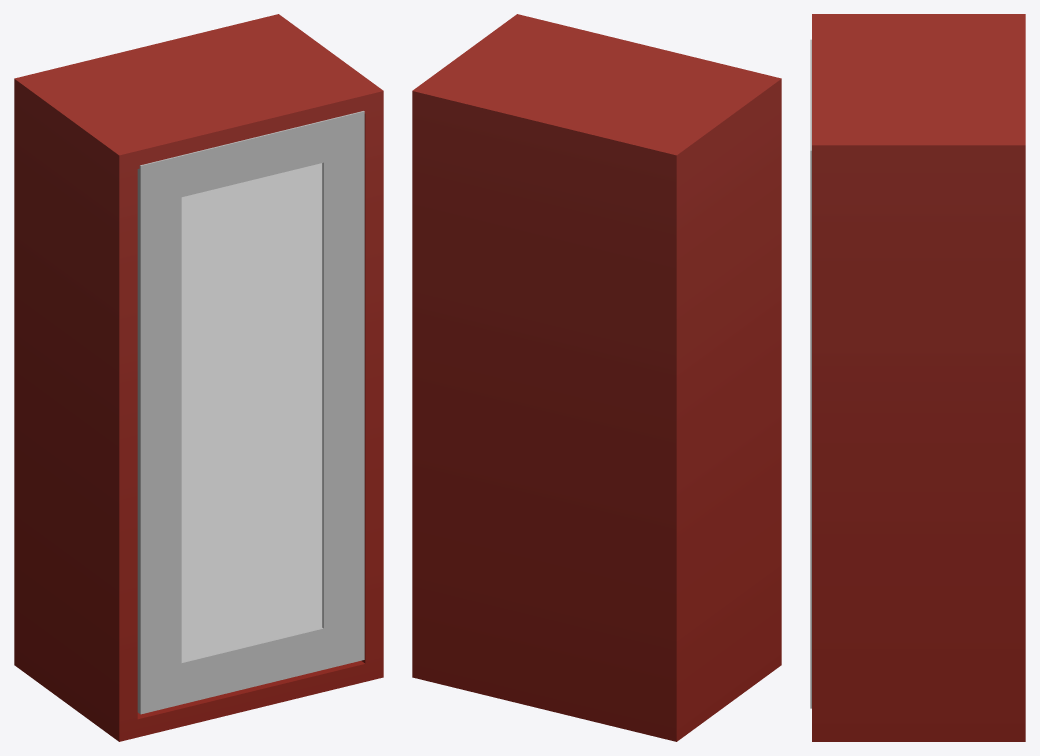
Rendered from Extinguisher.fbx.
3 renders of one model, left to right at view 1: azimuth 30°, elevation 25°; view 2: azimuth 150°, elevation 25°; view 3: azimuth 270°, elevation 25°, orthographic.
Visible parts, largest first — view 1: FireExtinguisher_02_2, FireExtinguisher_02; view 2: FireExtinguisher_02; view 3: FireExtinguisher_02, FireExtinguisher_02_2.
Part boxes in pixels (bbox=[...]): FireExtinguisher_02_2: bbox=[137, 111, 364, 714]; FireExtinguisher_02: bbox=[14, 14, 383, 741]; FireExtinguisher_02: bbox=[412, 14, 781, 741]; FireExtinguisher_02: bbox=[812, 14, 1025, 741]; FireExtinguisher_02_2: bbox=[810, 39, 811, 708].
Size of the model in its own units: 32.71 by 69.3 by 22.68.
